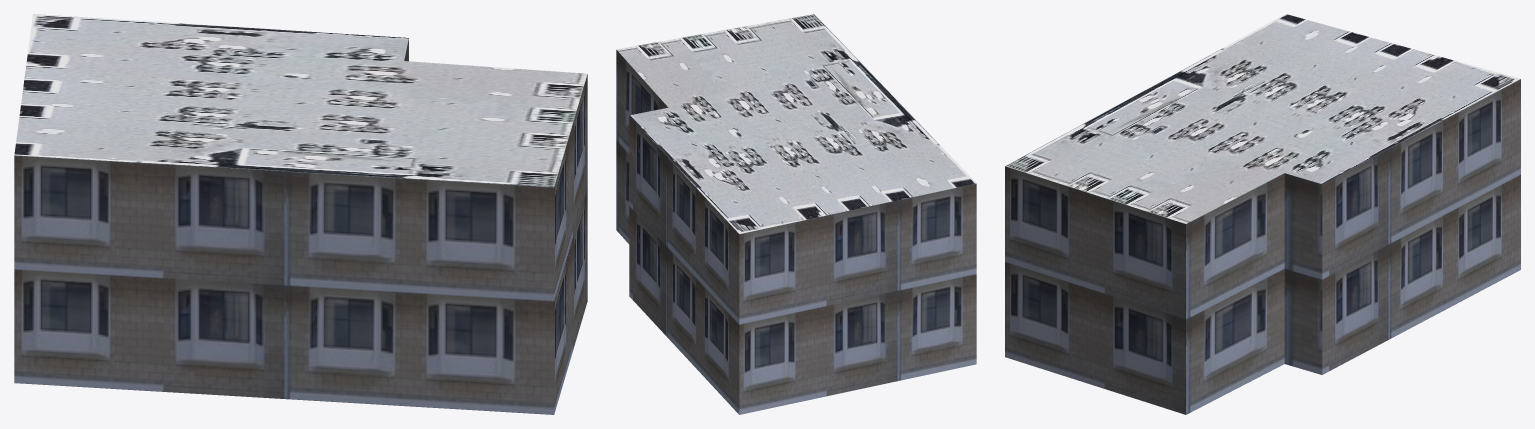
File: ResTex__2949.fbx
3 views of the same model, side by side, from view 1: azimuth 30°, elevation 25°; view 2: azimuth 150°, elevation 25°; view 3: azimuth 270°, elevation 25° (orthographic). The views are drawn at different scales.
Parts seen in each view (by area): view 1: CityEngineMaterial_3_m, CityEngineMaterial_m; view 2: CityEngineMaterial_3_m, CityEngineMaterial_m; view 3: CityEngineMaterial_3_m, CityEngineMaterial_m.
Part boxes in pixels (<box>): CityEngineMaterial_3_m: <box>14,38,587,414</box>; CityEngineMaterial_m: <box>14,14,587,187</box>; CityEngineMaterial_3_m: <box>616,50,976,414</box>; CityEngineMaterial_m: <box>616,14,976,233</box>; CityEngineMaterial_3_m: <box>1005,79,1520,414</box>; CityEngineMaterial_m: <box>1005,14,1520,223</box>.
Size of the model in its own units: 14.16 by 6 by 14.7.
2 materials, 2 textured.
